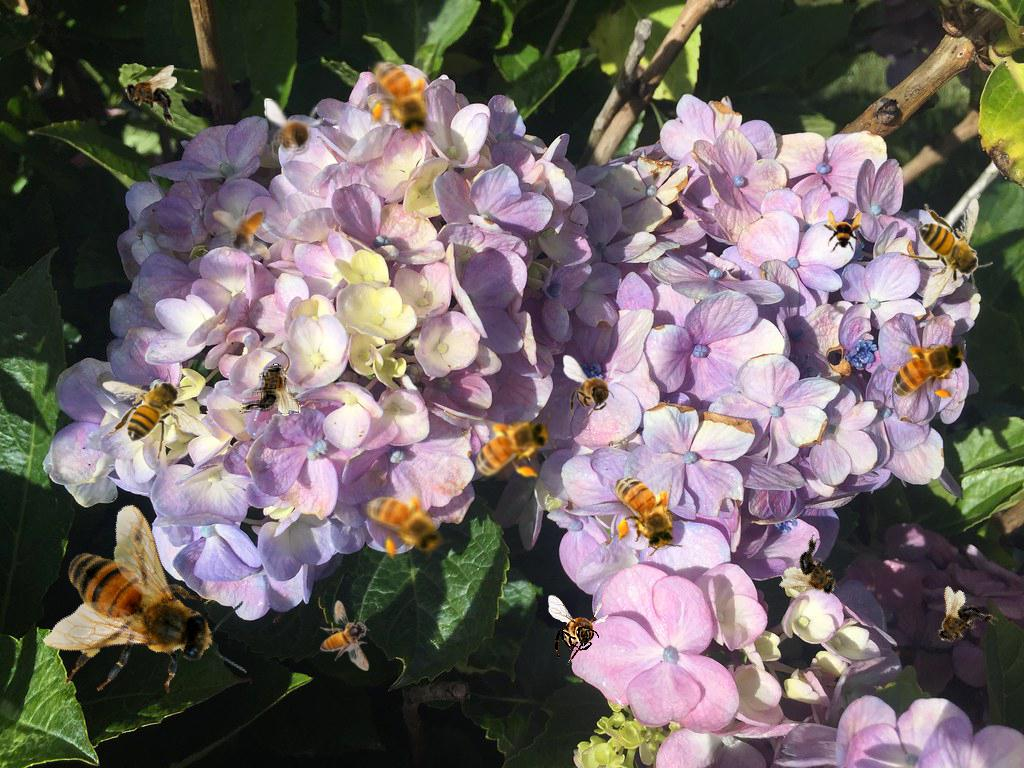Bee: (5, 476, 274, 748), (352, 463, 456, 578), (899, 198, 993, 309), (102, 367, 213, 461), (608, 460, 684, 559), (209, 189, 287, 276), (920, 582, 1001, 662), (776, 531, 855, 613), (368, 48, 436, 141), (879, 335, 972, 403), (463, 413, 556, 481), (264, 98, 325, 168), (563, 355, 624, 425), (548, 595, 609, 665), (320, 600, 370, 671), (124, 65, 177, 127), (239, 363, 301, 416), (820, 209, 864, 253)
